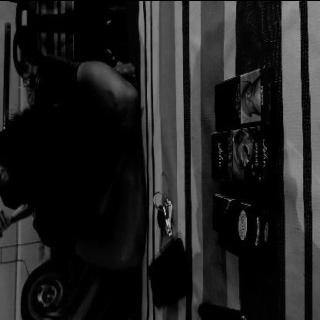objects: (215, 65, 276, 130), (212, 193, 270, 252), (212, 126, 269, 182)
